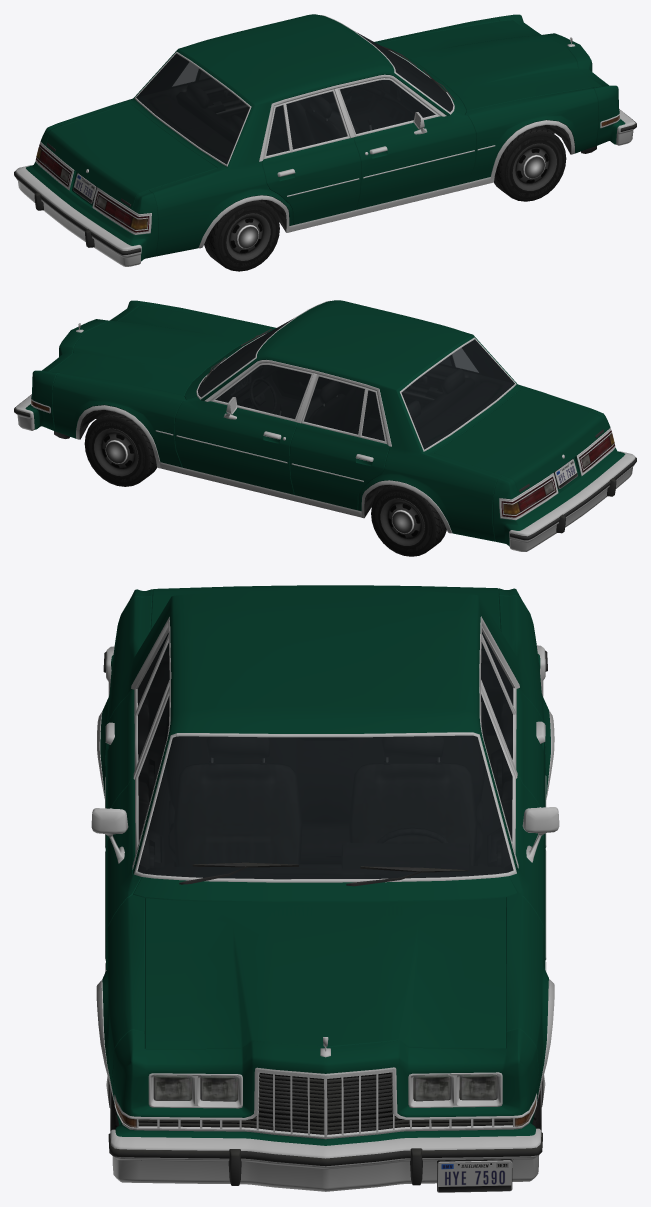
Rendered from negotiator.glb.
3 views of the same model, one above another, from view 1: azimuth 30°, elevation 25°; view 2: azimuth 150°, elevation 25°; view 3: azimuth 270°, elevation 25° (orthographic). The views are drawn at different scales.
Visible parts, largest first — view 1: Negotiator80_Body_Negotiator80_Bodymat_0, Negotiator80_Interior_UCB_Interiors_2_0, Negotiator80_Hood_Negotiator80_Bodymat_0, Negotiator80_bottom_UCB_BOTTOM_0, Negotiator80_Trunk_door_Negotiator80_Bodymat_0, Negotiator80_Glass_back_UCB_Lights_and_Glass_Transperent_0, Negotiator80_WheelStock_FR_RB1c_Tire_1k_0, Negotiator80_WheelStock_RR_RB1c_Tire_1k_0, Negotiator80_Bodyglass_UCB_Lights_and_Glass_Transperent_0, Negotiator80_Bumper_Rear_UCB_BOTTOM_0, Negotiator80_Glass_Passanger_UCB_Lights_and_Glass_Transperen, Negotiator80_Windshield_UCB_Lights_and_Glass_Transperent_0 (+4 smaller); view 2: Negotiator80_Body_Negotiator80_Bodymat_0, Negotiator80_Interior_UCB_Interiors_2_0, Negotiator80_Hood_Negotiator80_Bodymat_0, Negotiator80_bottom_UCB_BOTTOM_0, Negotiator80_Trunk_door_Negotiator80_Bodymat_0, Negotiator80_Glass_back_UCB_Lights_and_Glass_Transperent_0, Negotiator80_WheelStock_FL_RB1c_Tire_1k_0, Negotiator80_WheelStock_RL_RB1c_Tire_1k_0, Negotiator80_Bodyglass_UCB_Lights_and_Glass_Transperent_0, Negotiator80_Bumper_Rear_UCB_BOTTOM_0, Negotiator80_Glass_Driver_UCB_Lights_and_Glass_Transperent_0, Negotiator80_Windshield_UCB_Lights_and_Glass_Transperent_0 (+4 smaller); view 3: Negotiator80_Body_Negotiator80_Bodymat_0, Negotiator80_Hood_Negotiator80_Bodymat_0, Negotiator80_Interior_UCB_Interiors_2_0, Negotiator80_Windshield_UCB_Lights_and_Glass_Transperent_0, Negotiator80_bottom_UCB_BOTTOM_0, Negotiator80_Bumper_Front_UCB_BOTTOM_0, Negotiator80_Headlights_Glass_UCB_Lights_and_Glass_Transpere, Negotiator80_Headlights_UCB_Lights_and_Glass_0, Negotiator80_Bodyglass_UCB_Lights_and_Glass_Transperent_0, Negotiator80_Trunk_door_Negotiator80_Bodymat_0, Negotiator80_Numberplate_front_Numberplates_Misk_U_0, Negotiator80_Glass_Driver_UCB_Lights_and_Glass_Transperent_0 (+1 smaller).
Boxes of the visible parts, bbox=[...] form: Negotiator80_Body_Negotiator80_Bodymat_0: bbox=[26, 14, 625, 261]; Negotiator80_Interior_UCB_Interiors_2_0: bbox=[136, 45, 452, 163]; Negotiator80_Hood_Negotiator80_Bodymat_0: bbox=[378, 20, 601, 110]; Negotiator80_bottom_UCB_BOTTOM_0: bbox=[35, 15, 620, 248]; Negotiator80_Trunk_door_Negotiator80_Bodymat_0: bbox=[46, 103, 216, 209]; Negotiator80_Glass_back_UCB_Lights_and_Glass_Transperent_0: bbox=[136, 53, 249, 164]; Negotiator80_WheelStock_FR_RB1c_Tire_1k_0: bbox=[493, 125, 566, 201]; Negotiator80_WheelStock_RR_RB1c_Tire_1k_0: bbox=[204, 199, 279, 271]; Negotiator80_Bodyglass_UCB_Lights_and_Glass_Transperent_0: bbox=[200, 72, 346, 155]; Negotiator80_Bumper_Rear_UCB_BOTTOM_0: bbox=[14, 165, 141, 266]; Negotiator80_Glass_Passanger_UCB_Lights_and_Glass_Transperen: bbox=[340, 80, 435, 133]; Negotiator80_Windshield_UCB_Lights_and_Glass_Transperent_0: bbox=[357, 32, 453, 112]; Negotiator80_Body_Negotiator80_Bodymat_0: bbox=[25, 300, 625, 546]; Negotiator80_Interior_UCB_Interiors_2_0: bbox=[198, 331, 514, 448]; Negotiator80_Hood_Negotiator80_Bodymat_0: bbox=[49, 306, 272, 395]; Negotiator80_bottom_UCB_BOTTOM_0: bbox=[30, 300, 615, 533]; Negotiator80_Trunk_door_Negotiator80_Bodymat_0: bbox=[434, 389, 605, 494]; Negotiator80_Glass_back_UCB_Lights_and_Glass_Transperent_0: bbox=[401, 339, 514, 449]; Negotiator80_WheelStock_FL_RB1c_Tire_1k_0: bbox=[84, 410, 157, 486]; Negotiator80_WheelStock_RL_RB1c_Tire_1k_0: bbox=[371, 485, 446, 556]; Negotiator80_Bodyglass_UCB_Lights_and_Glass_Transperent_0: bbox=[304, 357, 451, 441]; Negotiator80_Bumper_Rear_UCB_BOTTOM_0: bbox=[509, 451, 636, 551]; Negotiator80_Glass_Driver_UCB_Lights_and_Glass_Transperent_0: bbox=[215, 365, 311, 418]; Negotiator80_Windshield_UCB_Lights_and_Glass_Transperent_0: bbox=[197, 318, 293, 397]; Negotiator80_Body_Negotiator80_Bodymat_0: bbox=[100, 588, 550, 1145]; Negotiator80_Hood_Negotiator80_Bodymat_0: bbox=[144, 897, 506, 1048]; Negotiator80_Interior_UCB_Interiors_2_0: bbox=[137, 652, 512, 878]; Negotiator80_Windshield_UCB_Lights_and_Glass_Transperent_0: bbox=[137, 735, 513, 879]; Negotiator80_bottom_UCB_BOTTOM_0: bbox=[91, 616, 559, 1139]; Negotiator80_Bumper_Front_UCB_BOTTOM_0: bbox=[108, 1128, 542, 1191]; Negotiator80_Headlights_Glass_UCB_Lights_and_Glass_Transpere: bbox=[115, 1074, 535, 1127]; Negotiator80_Headlights_UCB_Lights_and_Glass_0: bbox=[154, 1075, 496, 1100]; Negotiator80_Bodyglass_UCB_Lights_and_Glass_Transperent_0: bbox=[137, 632, 513, 760]; Negotiator80_Trunk_door_Negotiator80_Bodymat_0: bbox=[150, 585, 500, 630]; Negotiator80_Numberplate_front_Numberplates_Misk_U_0: bbox=[437, 1160, 512, 1192]; Negotiator80_Glass_Driver_UCB_Lights_and_Glass_Transperent_0: bbox=[481, 694, 512, 841].
Bounding box in the file's own units: 4.94 × 1.39 × 1.87.
7 materials, 6 textured.
